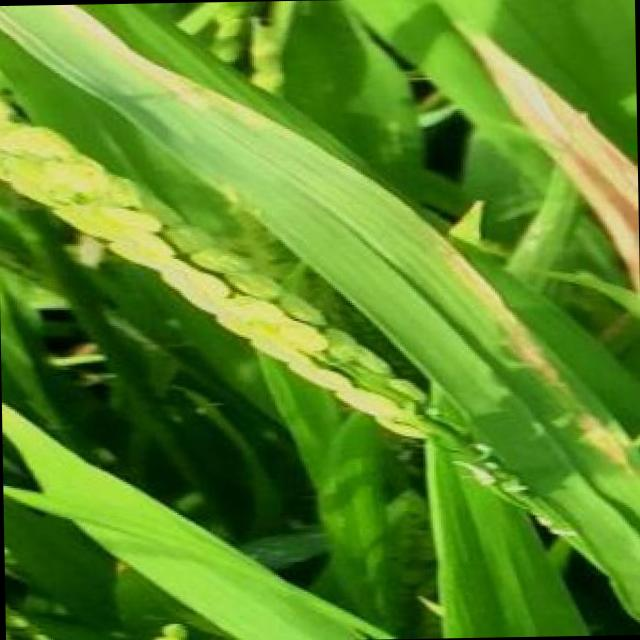Rice_Bacterial_Blight: (369, 200, 626, 514)
